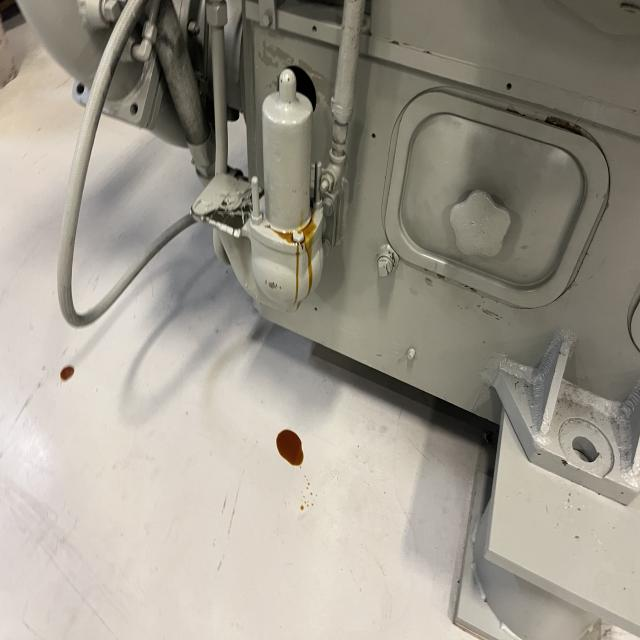Oil Leak: (244, 66, 340, 311), (276, 429, 304, 466), (60, 365, 74, 381)
